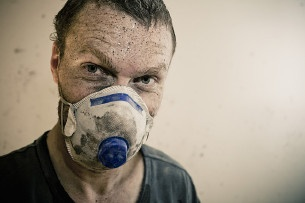Mask: (58, 52, 176, 170)
